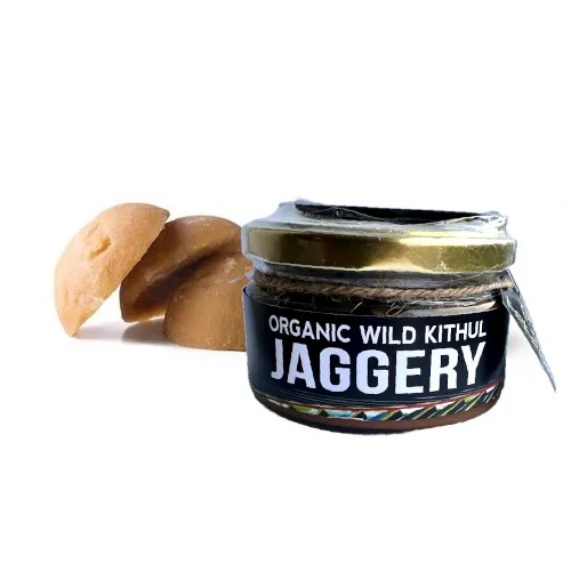hakuru: (53, 202, 169, 336), (119, 216, 240, 321)
